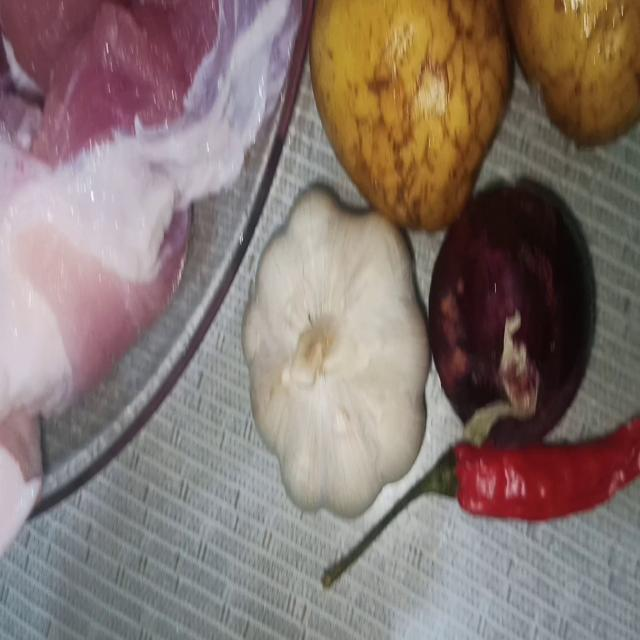chili_pepper: (309, 420, 640, 640)
garlic: (236, 172, 434, 528)
onion: (391, 167, 616, 468)
pork: (0, 0, 149, 532), (96, 0, 298, 254)
potato: (289, 0, 521, 261)
